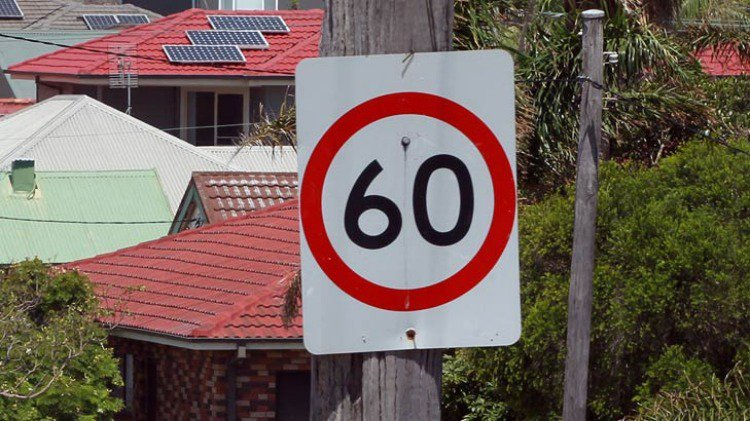Speed_limit_60km: (302, 91, 517, 309)
